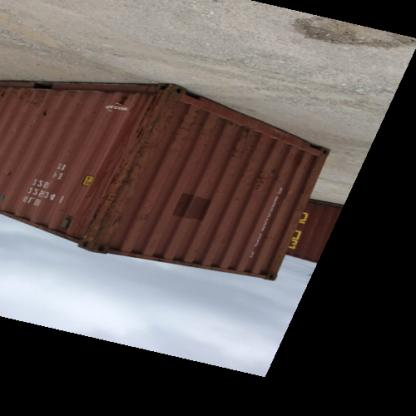Damage: (93, 160, 137, 246), (130, 90, 170, 156), (18, 90, 54, 124), (176, 113, 204, 152), (225, 125, 253, 164), (252, 166, 284, 200), (2, 166, 22, 188)
